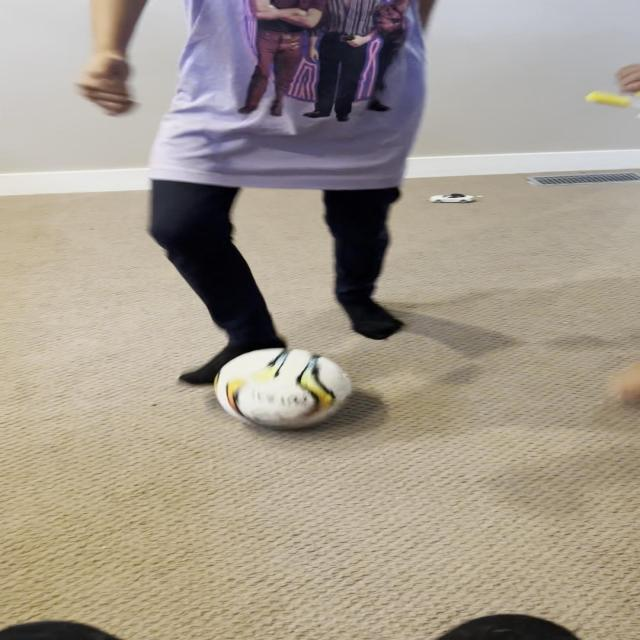Soccer Ball: (214, 348, 352, 429)
